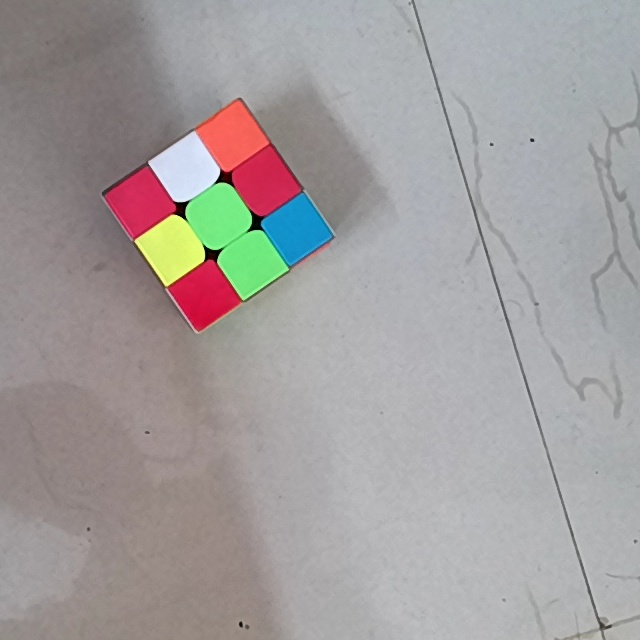tile: (165, 151, 205, 189), (245, 164, 284, 202), (121, 183, 160, 221), (184, 277, 224, 314), (232, 244, 271, 281), (201, 197, 240, 234), (213, 119, 251, 156), (151, 231, 191, 266), (279, 211, 317, 245)
